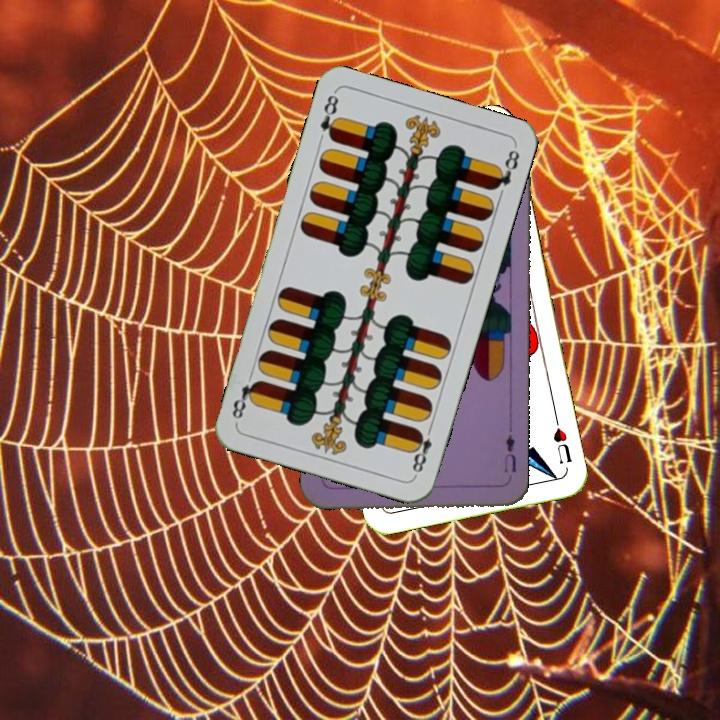E8: (408, 421, 436, 479), (316, 89, 343, 143)
EU: (500, 430, 519, 475)
HU: (549, 413, 575, 467)
